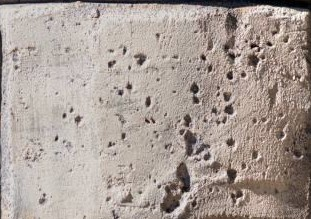Spalling: (3, 8, 307, 219)
